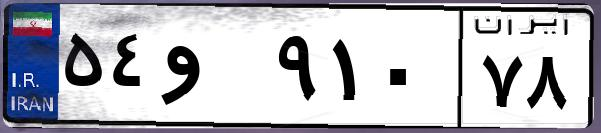0: (385, 28, 445, 110)
1: (330, 28, 385, 110)
4: (110, 28, 158, 98)
5: (57, 26, 110, 100)
7: (475, 38, 525, 113)
8: (525, 38, 570, 115)
9: (270, 28, 330, 110)
و: (158, 20, 270, 120)
